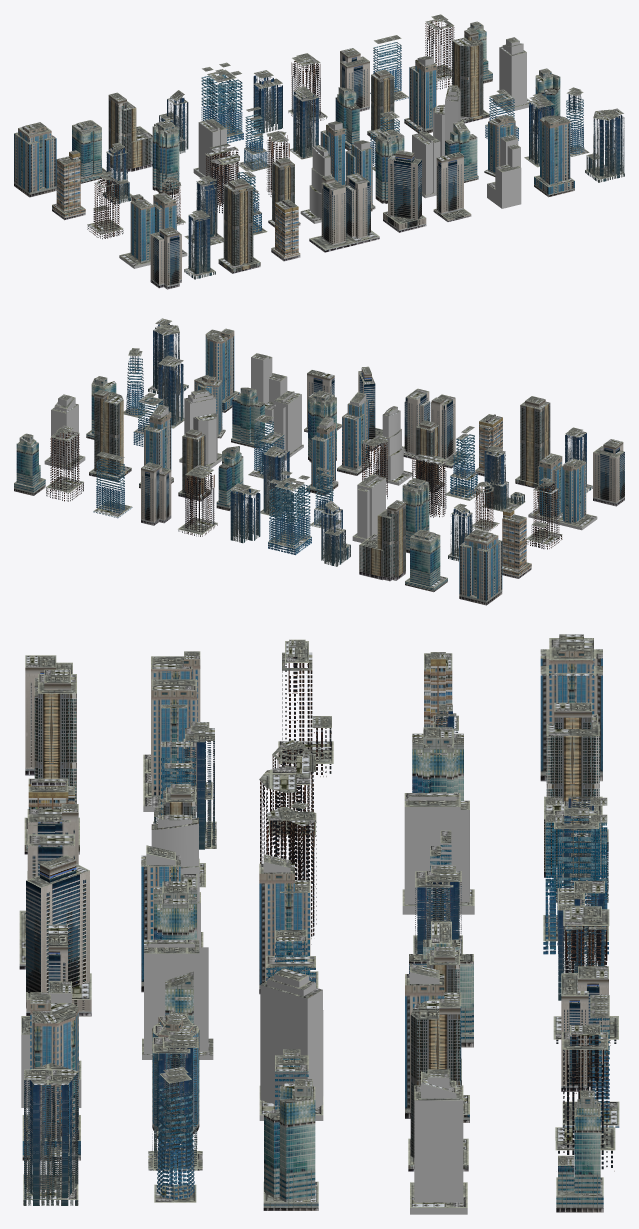
The model's file is Skyscrapers.FBX.
The picture shows the model from 3 angles, top to bottom: view 1: azimuth 30°, elevation 25°; view 2: azimuth 150°, elevation 25°; view 3: azimuth 270°, elevation 25°; orthographic projection. The views are drawn at different scales.
Visible parts, largest first — view 1: 21, 19, 27, 22, 25, 50, 1, 40, 39, 26, 49, 23 (+41 smaller); view 2: 1, 27, 39, 40, 21, 50, 19, 6, 17, 13, 25, 28 (+41 smaller); view 3: 22, 26, 51, 36, 38, 1, 44, 40, 39, 25, 27, 8 (+38 smaller).
Part boxes in pixels (bbox=[...]): 21: bbox=[309, 173, 379, 252]; 19: bbox=[218, 178, 260, 273]; 27: bbox=[14, 122, 56, 197]; 22: bbox=[383, 150, 426, 232]; 25: bbox=[534, 115, 574, 197]; 50: bbox=[452, 28, 489, 123]; 1: bbox=[119, 192, 187, 268]; 40: bbox=[108, 92, 152, 172]; 39: bbox=[201, 62, 243, 143]; 26: bbox=[585, 108, 624, 182]; 49: bbox=[404, 56, 436, 133]; 23: bbox=[433, 152, 471, 221]; 1: bbox=[528, 453, 597, 530]; 27: bbox=[459, 529, 502, 605]; 39: bbox=[268, 471, 311, 555]; 40: bbox=[359, 500, 405, 581]; 21: bbox=[403, 388, 466, 468]; 50: bbox=[89, 389, 131, 481]; 19: bbox=[515, 396, 550, 488]; 6: bbox=[337, 392, 371, 475]; 17: bbox=[593, 439, 624, 506]; 13: bbox=[405, 529, 447, 592]; 25: bbox=[205, 328, 239, 412]; 28: bbox=[178, 465, 217, 536]; 22: bbox=[26, 855, 91, 1016]; 26: bbox=[23, 1063, 78, 1205]; 51: bbox=[410, 1069, 467, 1214]; 36: bbox=[259, 968, 323, 1120]; 38: bbox=[263, 1079, 318, 1210]; 1: bbox=[143, 651, 200, 811]; 44: bbox=[402, 793, 474, 914]; 40: bbox=[544, 702, 602, 877]; 39: bbox=[543, 797, 608, 954]; 25: bbox=[22, 995, 80, 1160]; 27: bbox=[540, 634, 602, 781]; 8: bbox=[142, 939, 213, 1059].
Size of the model in its own units: 78331 by 13181 by 43157.
